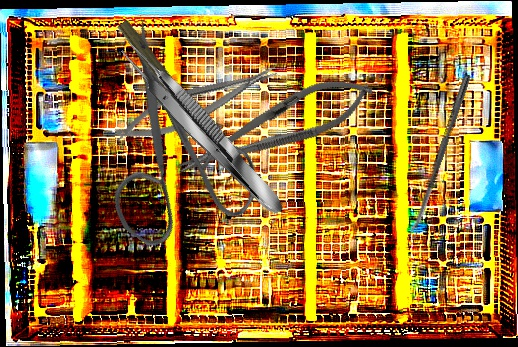Handpiece: (110, 16, 259, 203)
Iris Scissors: (27, 12, 302, 280)
Needle Holder: (168, 62, 382, 192), (110, 57, 285, 152)
Surgical Spoon: (407, 72, 472, 240)
Tissue Forceps: (113, 35, 292, 224)
